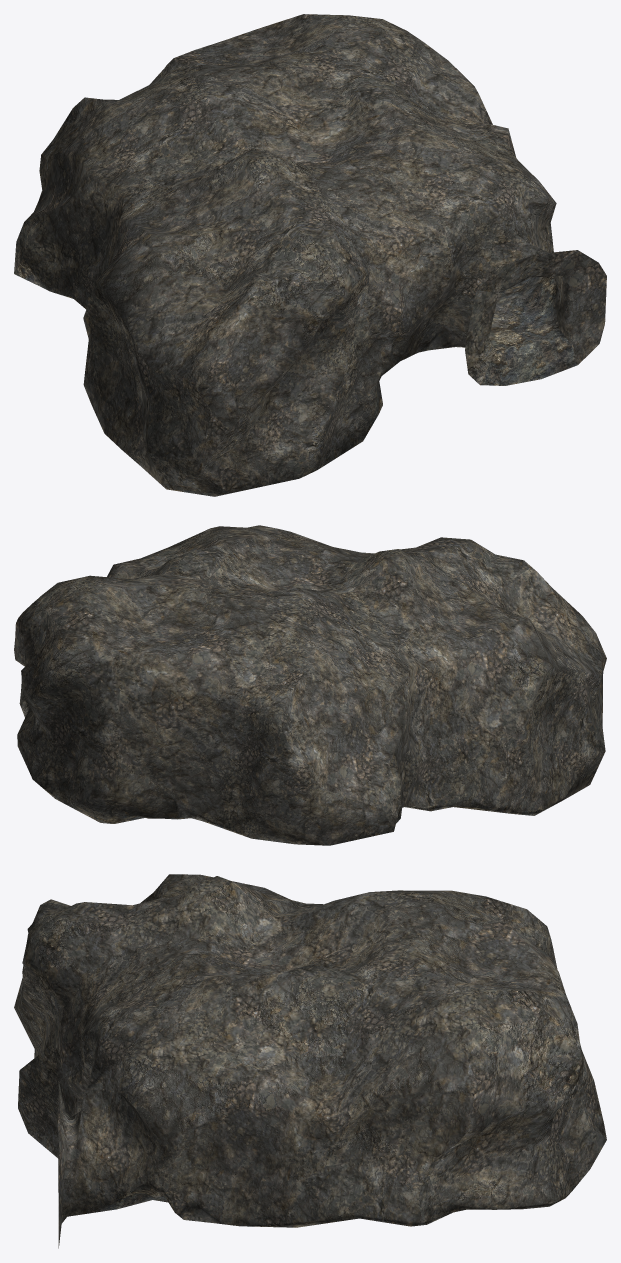
The model's file is CaveWater.fbx.
3 renders of one model, top to bottom at view 1: azimuth 30°, elevation 25°; view 2: azimuth 150°, elevation 25°; view 3: azimuth 270°, elevation 25°, orthographic. The views are drawn at different scales.
Parts seen in each view (by area): view 1: CaveWater; view 2: CaveWater; view 3: CaveWater.
Part boxes in pixels (x1,y1,x2,y2): CaveWater: [14, 14, 606, 496]; CaveWater: [14, 525, 606, 845]; CaveWater: [14, 874, 606, 1248].
Size of the model in its own units: 221 by 119 by 219.
